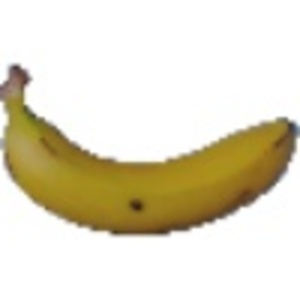banana: (5, 61, 297, 241)
